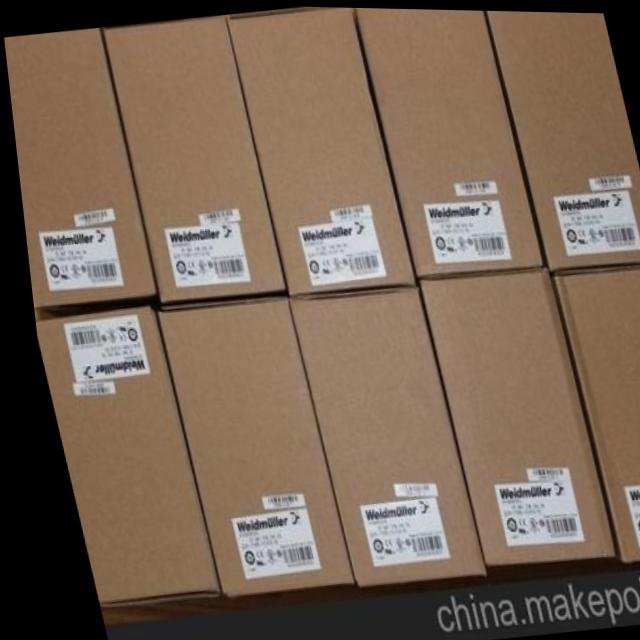box: (281, 283, 473, 584), (151, 294, 340, 596), (414, 264, 602, 562), (28, 305, 205, 608), (226, 5, 410, 295), (101, 13, 279, 300), (354, 6, 538, 278), (3, 27, 150, 307), (486, 8, 640, 266), (548, 258, 640, 559)
